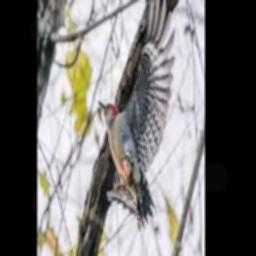Woodpecker: (99, 0, 175, 229)
